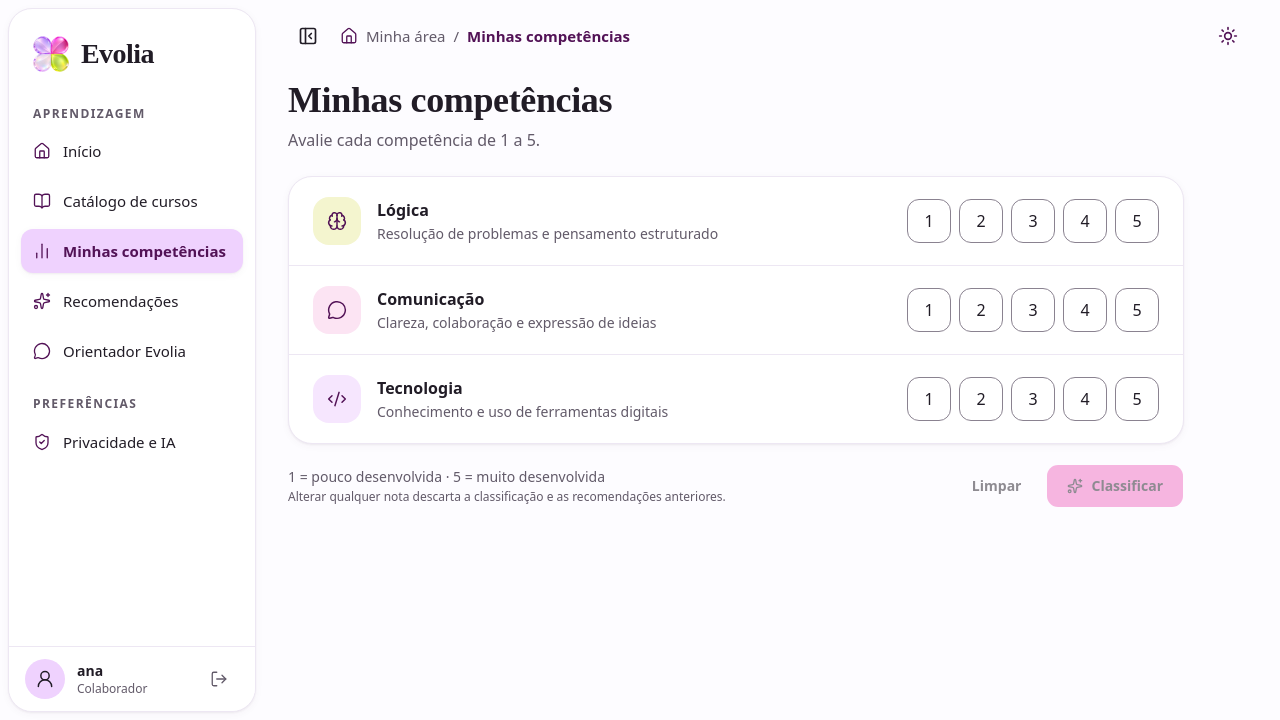
Scenario: recomendações › lista vazia e sem fontes têm estados próprios
expect the button "Classificar" is shown: met, box [1046,464,1184,508]
Click the radio button labelled "2" in the row of "Lógica": point(981, 221) [959,199,1003,243]
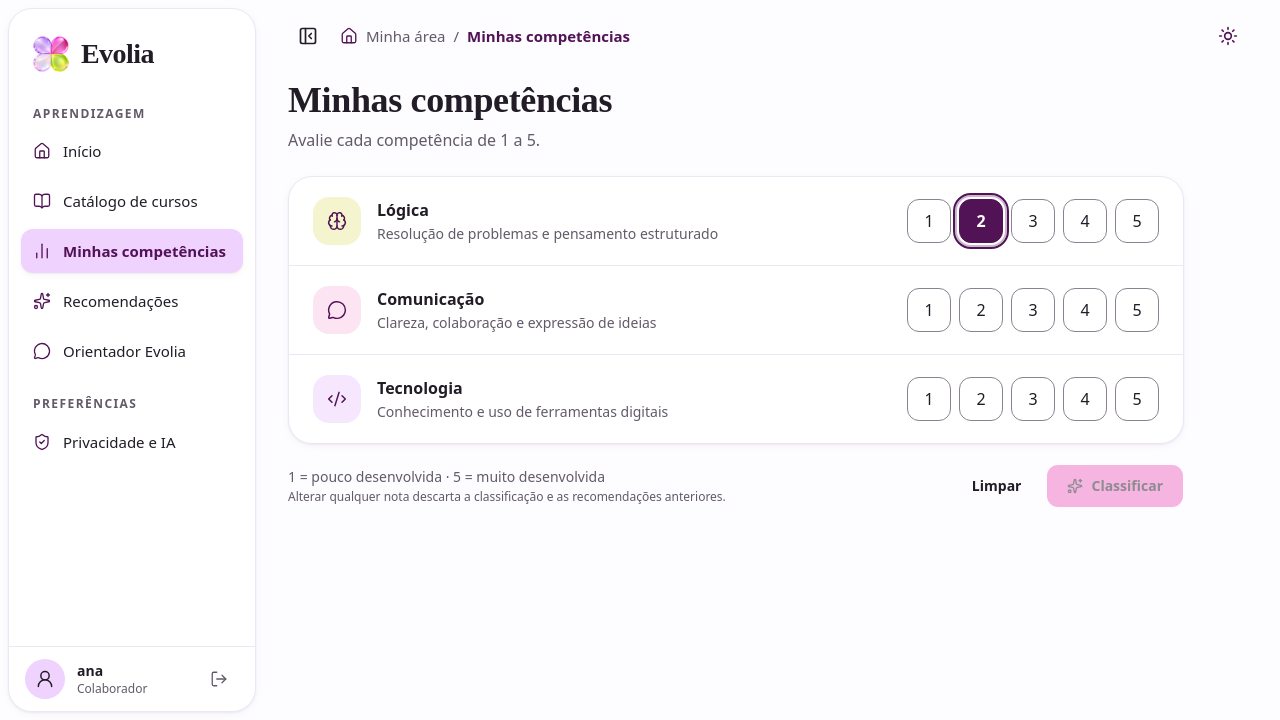
Click the radio button labelled "4" in the row of "Comunicação": point(1085, 310) [1063,288,1107,332]
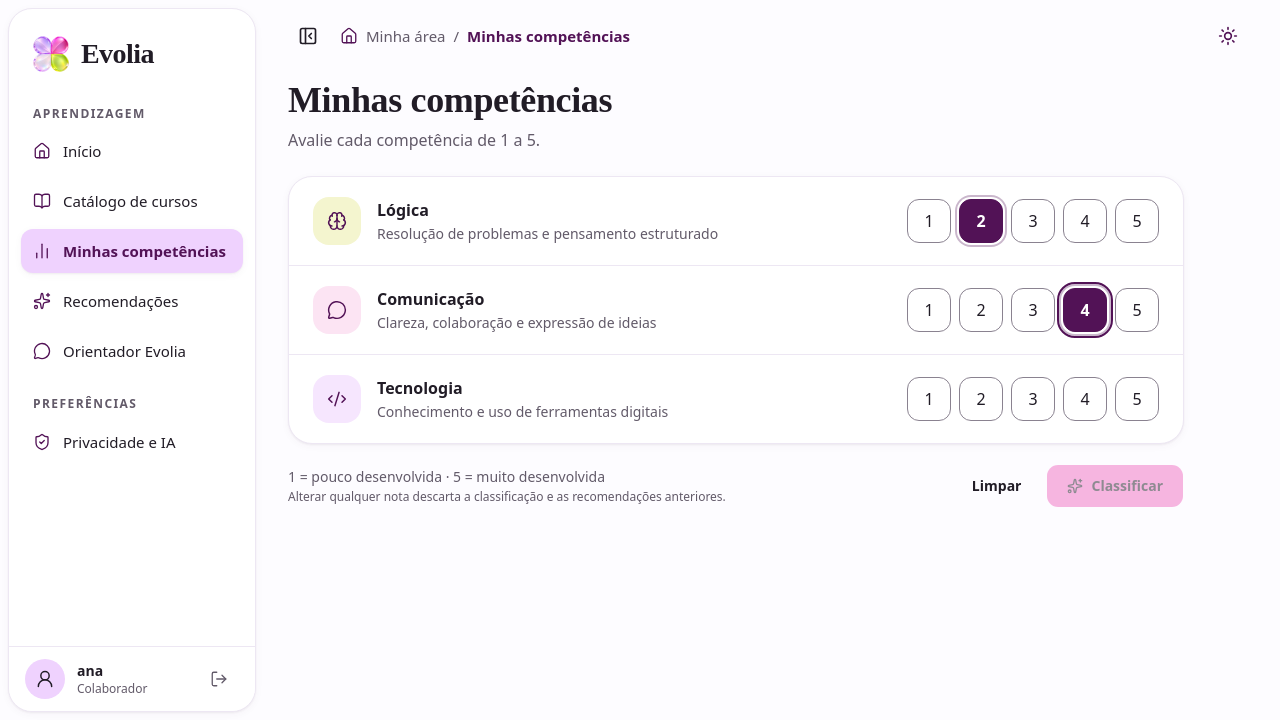
Click the radio button labelled "3" in the row of "Tecnologia": point(1033, 399) [1011,377,1055,421]
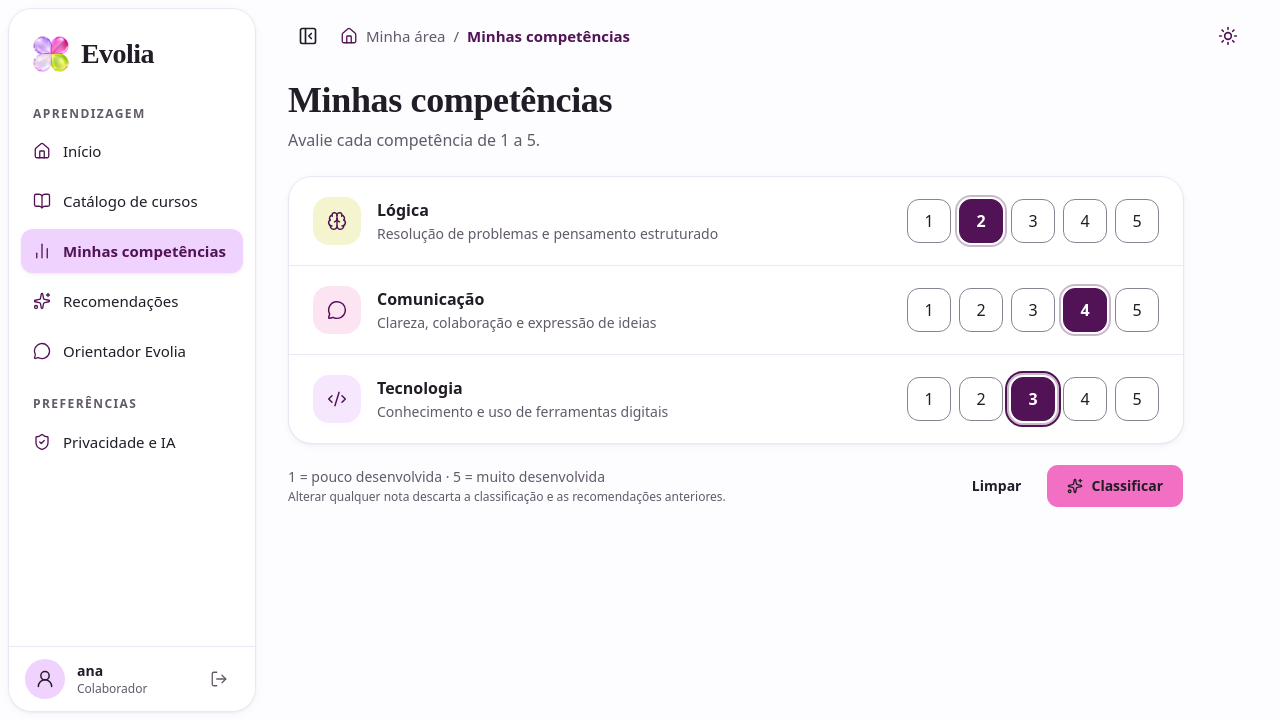
Click the button "Classificar": point(1115, 486) [1046,464,1184,508]
(page scrolled)
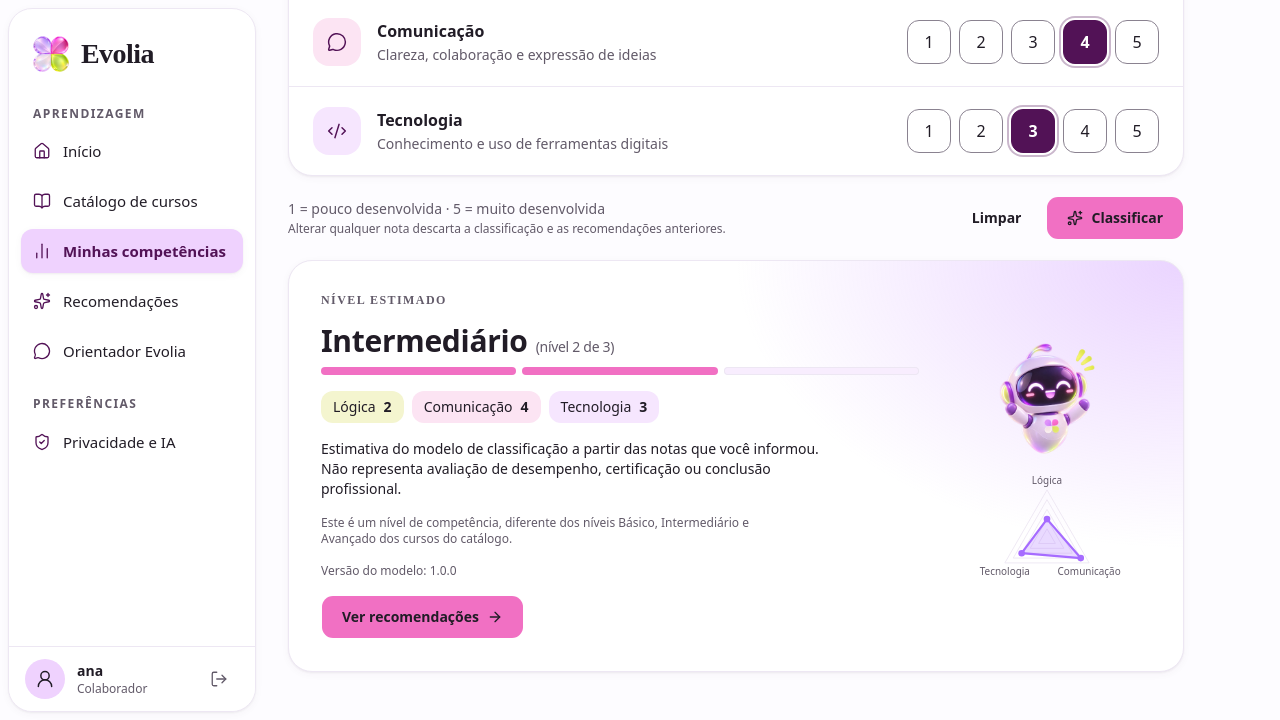
Click the link "Ver recomendações": point(422, 617) [321,595,524,639]
(page scrolled)
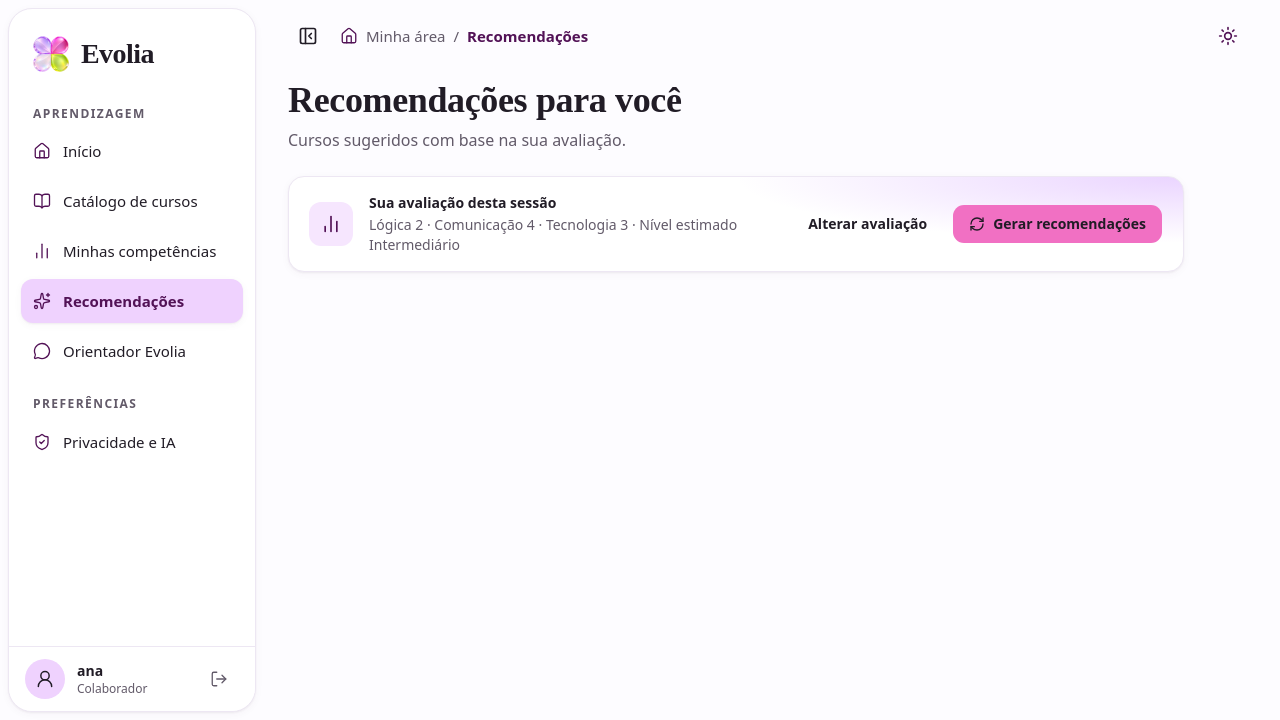
expect the heading "Recomendações para você" is shown: met, box [288,80,682,120]
Click the button "Gerar recomendações": point(1058, 224) [952,204,1163,244]
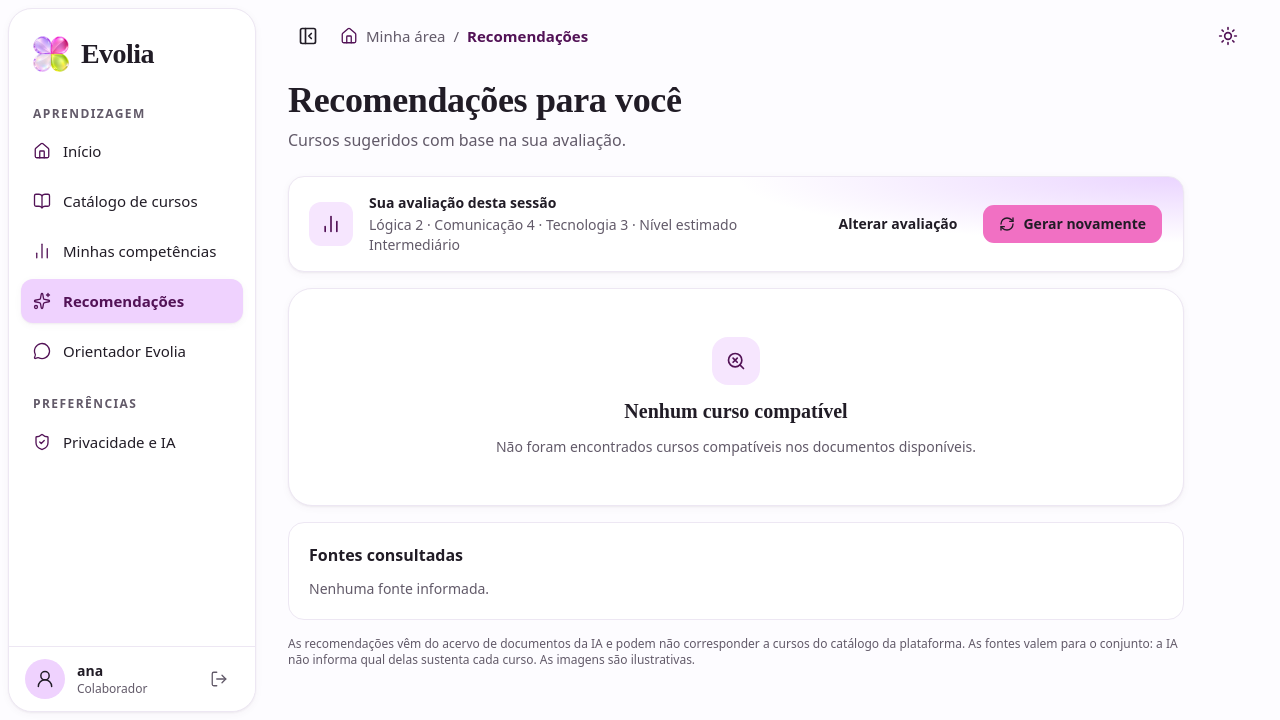
expect the text "Nenhum curso compatível" is shown: met, box [624,397,848,425]
expect the text "Nenhuma fonte informada." is shown: met, box [309,579,489,598]
